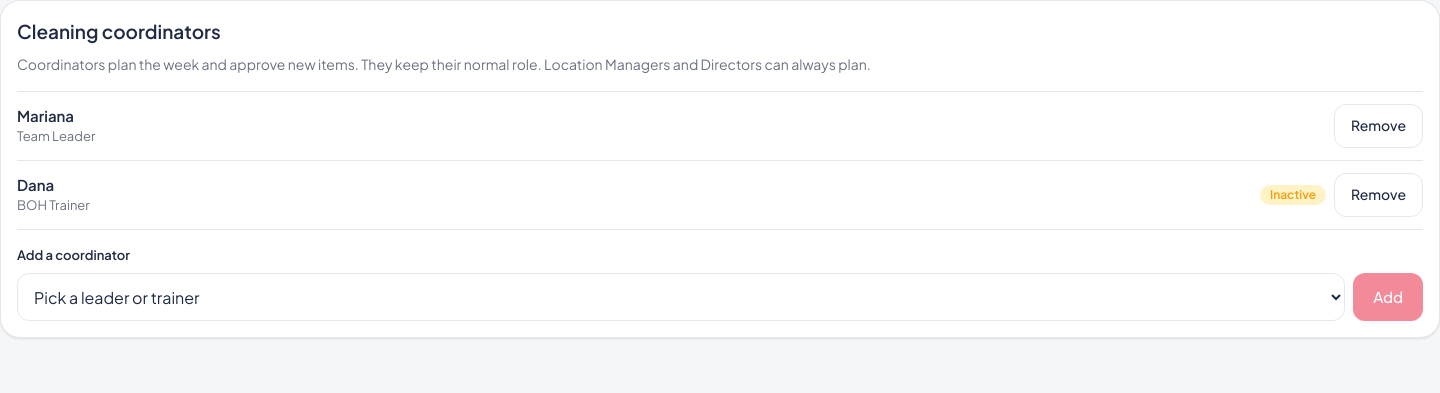
Test case: SettingsCoordinators for a role-level planner › shows the server's message when the add is refused
Select "Eric (BOH Trainer)" in the dropdown labelled "Add a coordinator" at (681, 297), box [17,273,1345,321]
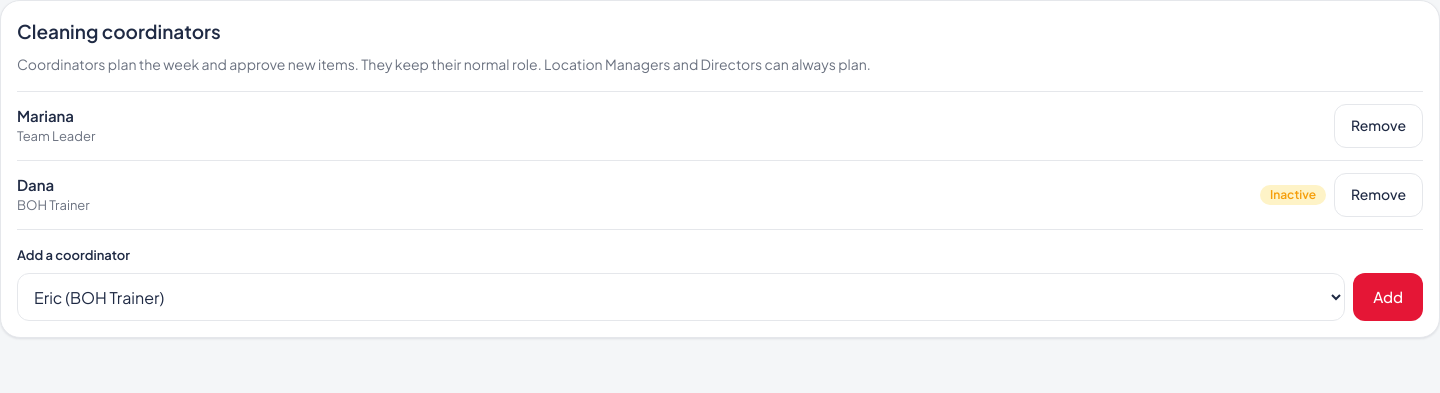
Click the button "Add" at (1388, 297), box [1353,273,1423,321]
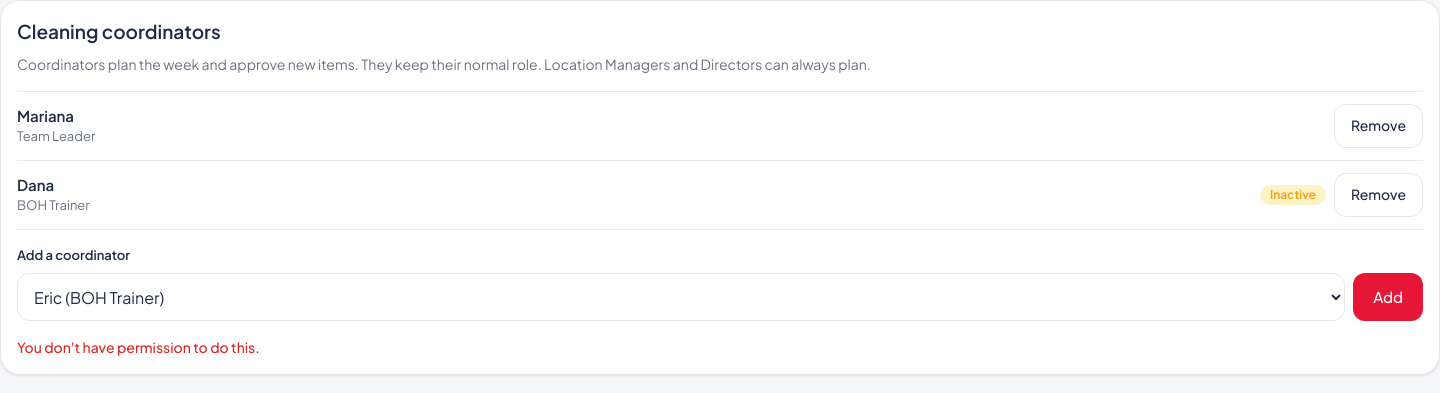
Expected: the message reads "You don't have permission to do this.", [17,338,260,356]
